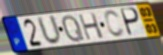2: (23, 18, 44, 48)
C: (103, 9, 127, 39)
H: (77, 11, 105, 42)
P: (120, 7, 141, 38)
Q: (61, 13, 87, 44)
U: (35, 14, 64, 47)
